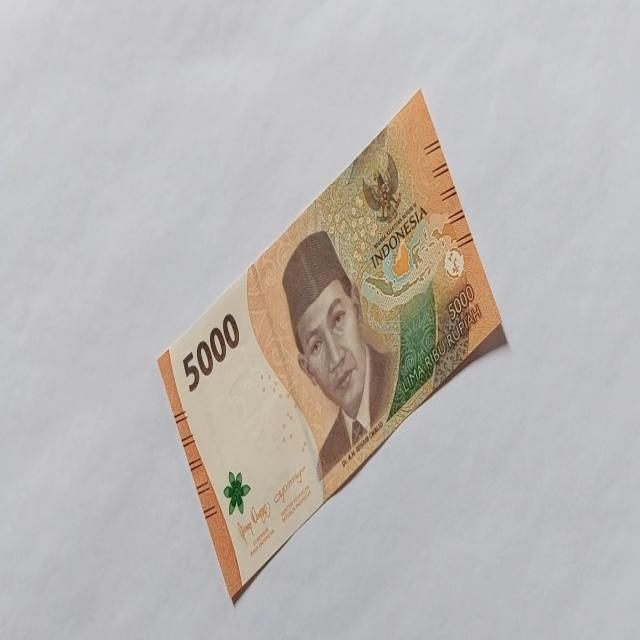lima ribu rupiah: (158, 90, 508, 607)
